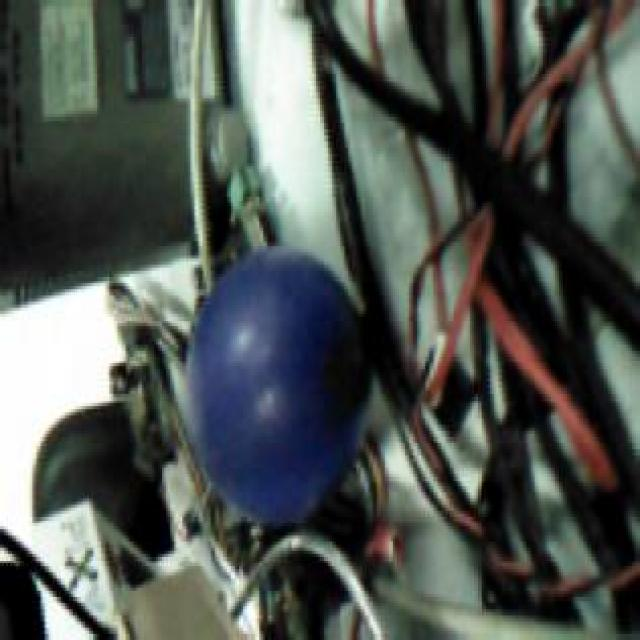BallPurple: (185, 247, 370, 524)
